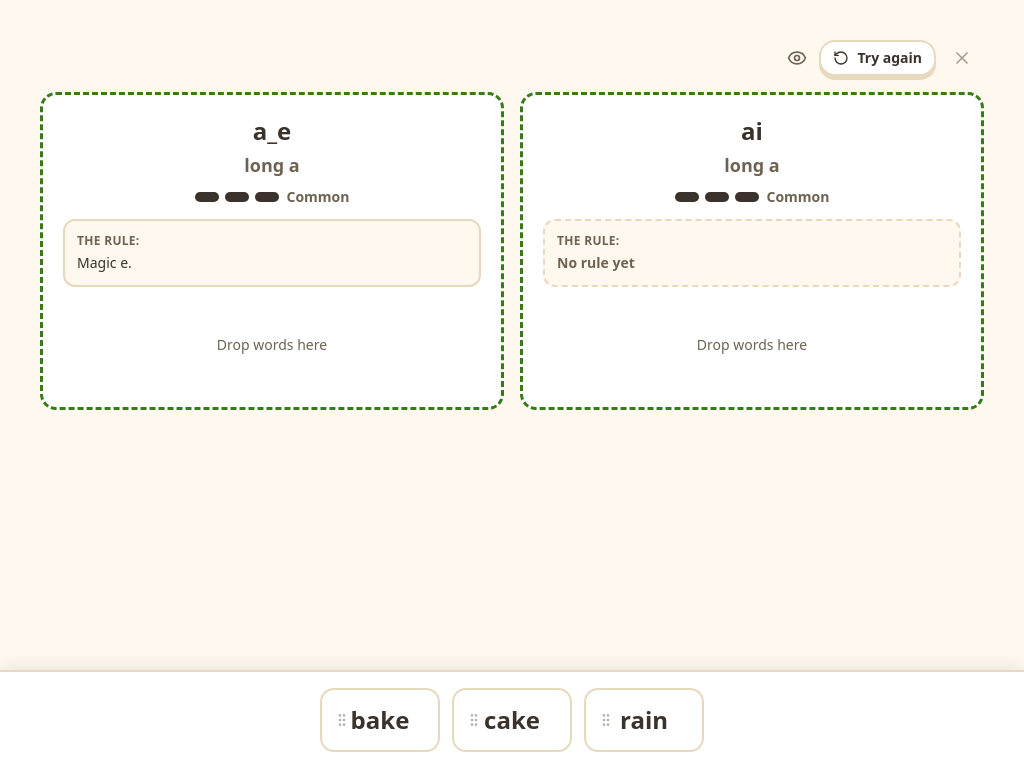
Test: SortActivity rule display toggle › shows the rule cards again when the toggle is pressed twice
The image size is (1024, 768).
Step 1. Click the button named "Show rules" → (797,58), box [779,40,815,76]
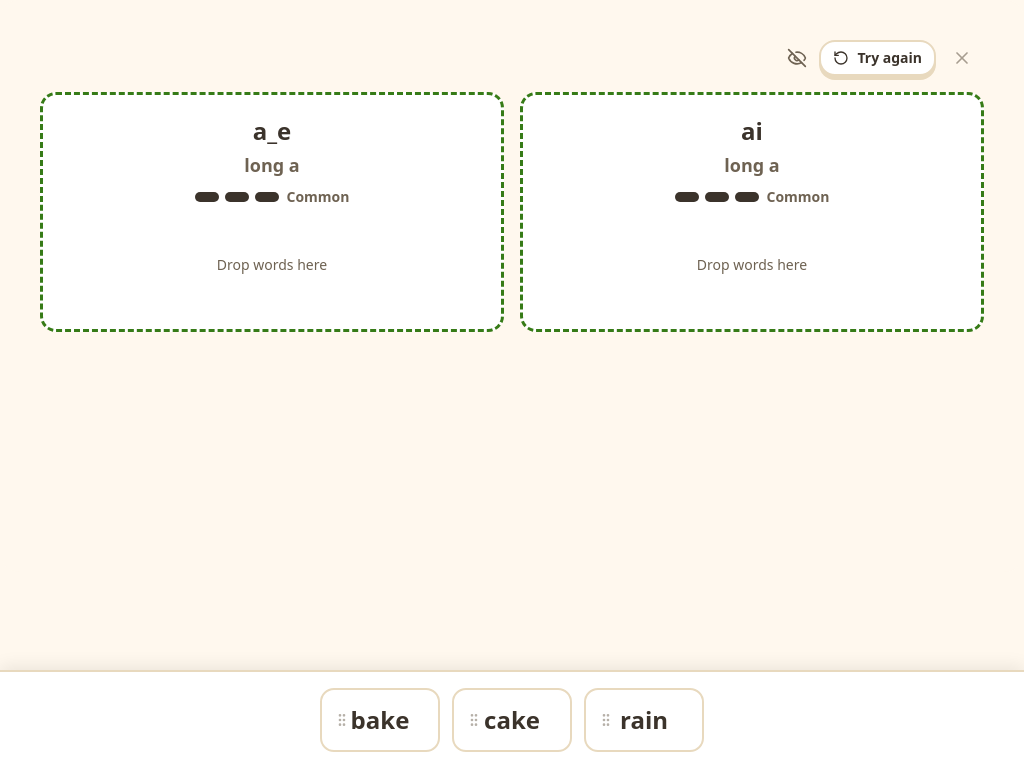
Result: the text "The rule:" is gone
Step 2. Click the button named "Show rules" → (797,58), box [779,40,815,76]
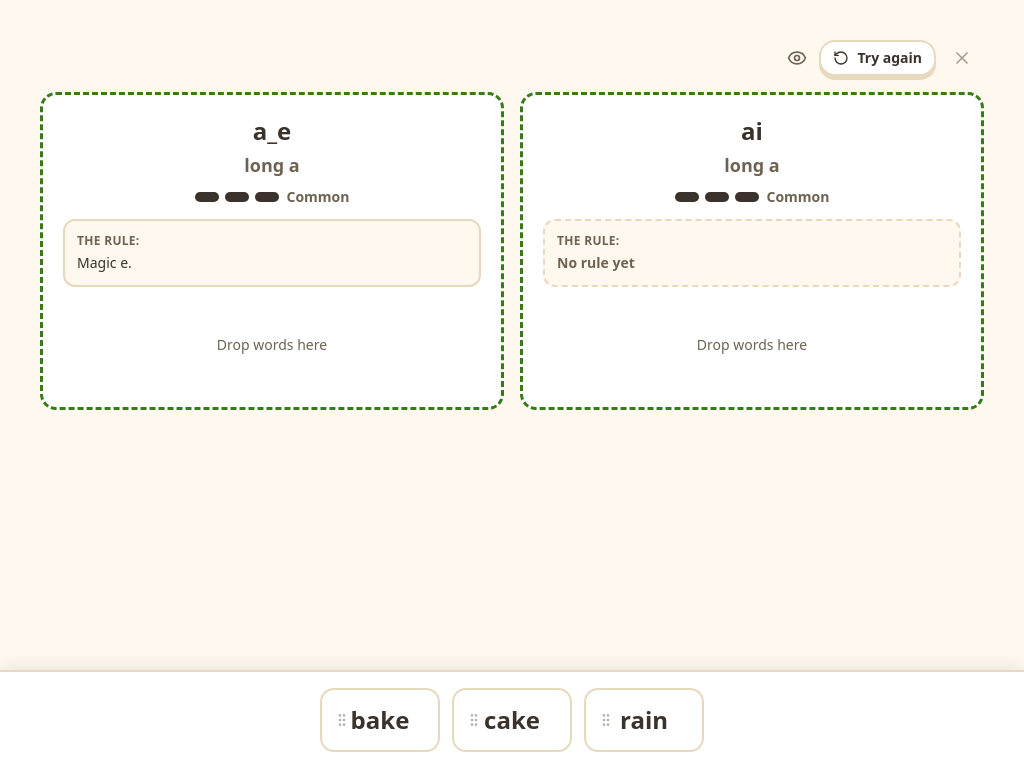
Result: the text "The rule:" is shown 2 times at [77,232,140,249]; [557,232,620,249]
